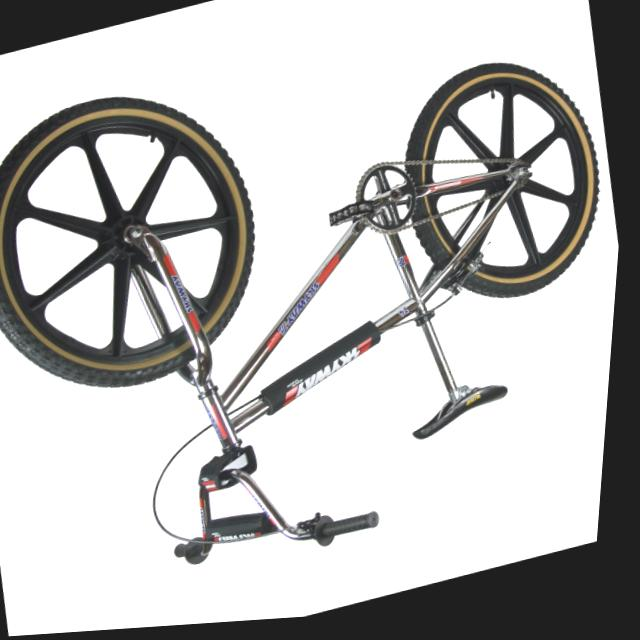bmx-bike: (0, 0, 639, 629)
